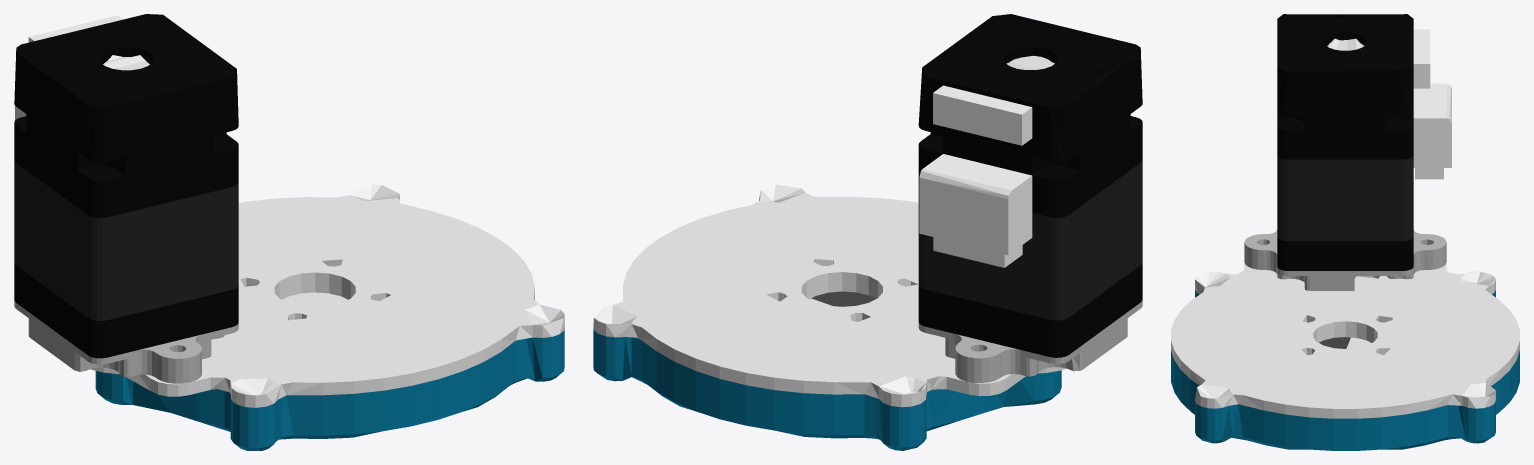
Rendered from hand_yaw.dae.
3 renders of one model, left to right at view 1: azimuth 30°, elevation 25°; view 2: azimuth 150°, elevation 25°; view 3: azimuth 270°, elevation 25°, orthographic. The views are drawn at different scales.
Visible parts, largest first — view 1: サーフェス1_ncl1_1, サーフェス1_ncl1_3, サーフェス1, サーフェス1_ncl1_6, サーフェス1_ncl1_2; view 2: サーフェス1_ncl1_1, サーフェス1_ncl1_3, サーフェス1, サーフェス1_ncl1_6, サーフェス1_ncl1_2; view 3: サーフェス1_ncl1_3, サーフェス1_ncl1_1, サーフェス1, サーフェス1_ncl1_6, サーフェス1_ncl1_2.
Part boxes in pixels (box(x1,y1,x2,y2)): サーフェス1_ncl1_1: box(14, 14, 238, 358); サーフェス1_ncl1_3: box(90, 184, 564, 407); サーフェス1: box(95, 327, 564, 450); サーフェス1_ncl1_6: box(14, 301, 238, 383); サーフェス1_ncl1_2: box(282, 292, 347, 307); サーフェス1_ncl1_1: box(918, 14, 1142, 357); サーフェス1_ncl1_3: box(593, 184, 1066, 407); サーフェス1: box(593, 327, 1061, 450); サーフェス1_ncl1_6: box(918, 300, 1142, 383); サーフェス1_ncl1_2: box(809, 291, 875, 306); サーフェス1_ncl1_3: box(1171, 262, 1519, 418); サーフェス1_ncl1_1: box(1277, 14, 1451, 270); サーフェス1: box(1171, 290, 1519, 450); サーフェス1_ncl1_6: box(1244, 230, 1446, 290); サーフェス1_ncl1_2: box(1319, 337, 1371, 348).
Size of the model in its own units: 0.0761 by 0.0638 by 0.0545.
